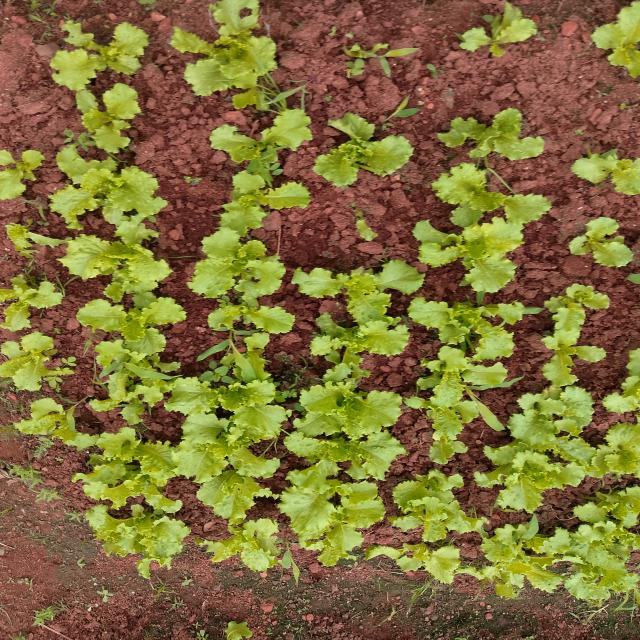Lettuce: (24, 15, 162, 86), (162, 0, 294, 74), (409, 212, 548, 281), (317, 109, 419, 194), (45, 163, 168, 229), (191, 229, 291, 304), (434, 98, 547, 164), (56, 89, 156, 151), (455, 0, 540, 66), (80, 500, 166, 559), (306, 308, 389, 368), (53, 230, 147, 282), (567, 139, 640, 203), (0, 331, 68, 398), (564, 214, 637, 273), (591, 0, 640, 85), (0, 268, 63, 334), (0, 140, 47, 206), (202, 528, 282, 566), (604, 363, 640, 421), (424, 424, 470, 466)
